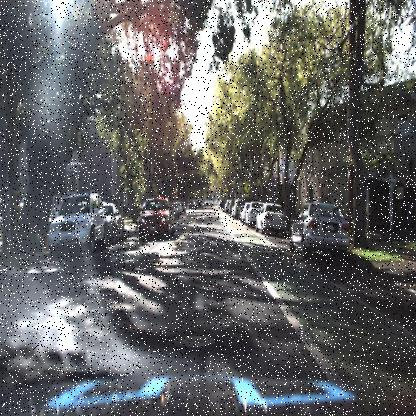car: (289, 195, 355, 265), (48, 188, 106, 254), (290, 200, 350, 255), (136, 196, 177, 243), (138, 197, 173, 239), (255, 197, 288, 235), (105, 195, 124, 250), (254, 202, 288, 231), (102, 200, 122, 242), (246, 200, 257, 225)
